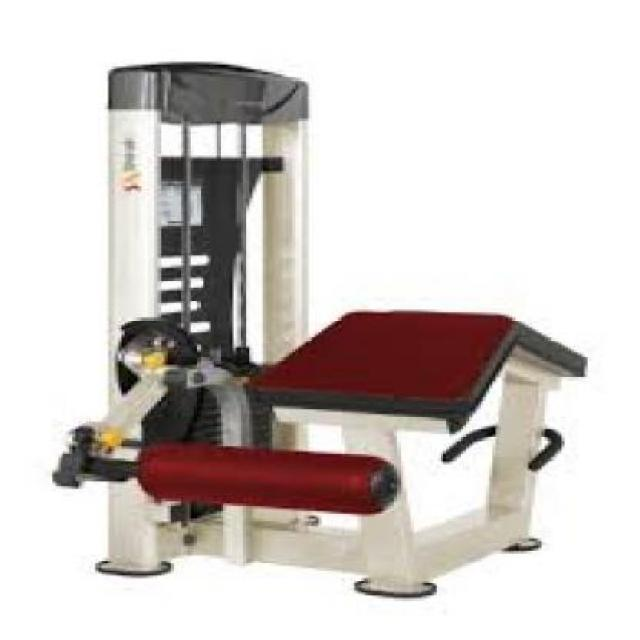reg curl machine: (54, 60, 591, 606)
